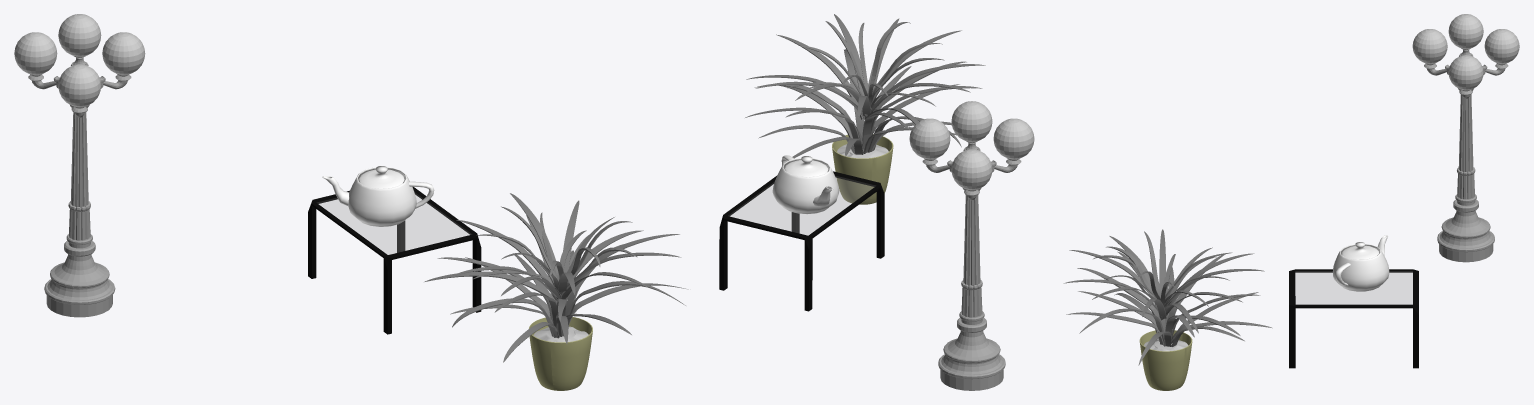
Rendered from Interesting.obj.
The picture shows the model from 3 angles, left to right: view 1: azimuth 30°, elevation 25°; view 2: azimuth 150°, elevation 25°; view 3: azimuth 270°, elevation 25°; orthographic projection. The views are drawn at different scales.
Visible parts, largest first — view 1: (null), Cube_Cube.001, post.001, globes.001, Object001_Mesh_Mesh, arms.001; view 2: (null), Cube_Cube.001, post.001, globes.001, Object001_Mesh_Mesh, arms.001; view 3: (null), Cube_Cube.001, post.001, globes.001, Object001_Mesh_Mesh, arms.001.
Part boxes in pixels (bbox=[...]): (null): bbox=[424, 193, 688, 390]; Cube_Cube.001: bbox=[308, 187, 481, 334]; post.001: bbox=[44, 56, 115, 317]; globes.001: bbox=[14, 14, 145, 107]; Object001_Mesh_Mesh: bbox=[322, 166, 434, 226]; arms.001: bbox=[28, 74, 131, 117]; (null): bbox=[745, 14, 985, 204]; Cube_Cube.001: bbox=[719, 171, 884, 311]; post.001: bbox=[938, 141, 1005, 390]; globes.001: bbox=[909, 101, 1034, 189]; Object001_Mesh_Mesh: bbox=[772, 155, 839, 214]; arms.001: bbox=[922, 158, 1021, 200]; (null): bbox=[1063, 229, 1272, 390]; Cube_Cube.001: bbox=[1289, 269, 1418, 368]; post.001: bbox=[1437, 48, 1494, 262]; globes.001: bbox=[1412, 14, 1519, 90]; Object001_Mesh_Mesh: bbox=[1333, 235, 1389, 291]; arms.001: bbox=[1424, 63, 1508, 98].
Size of the model in its own units: 9.65 by 6.23 by 10.32.
